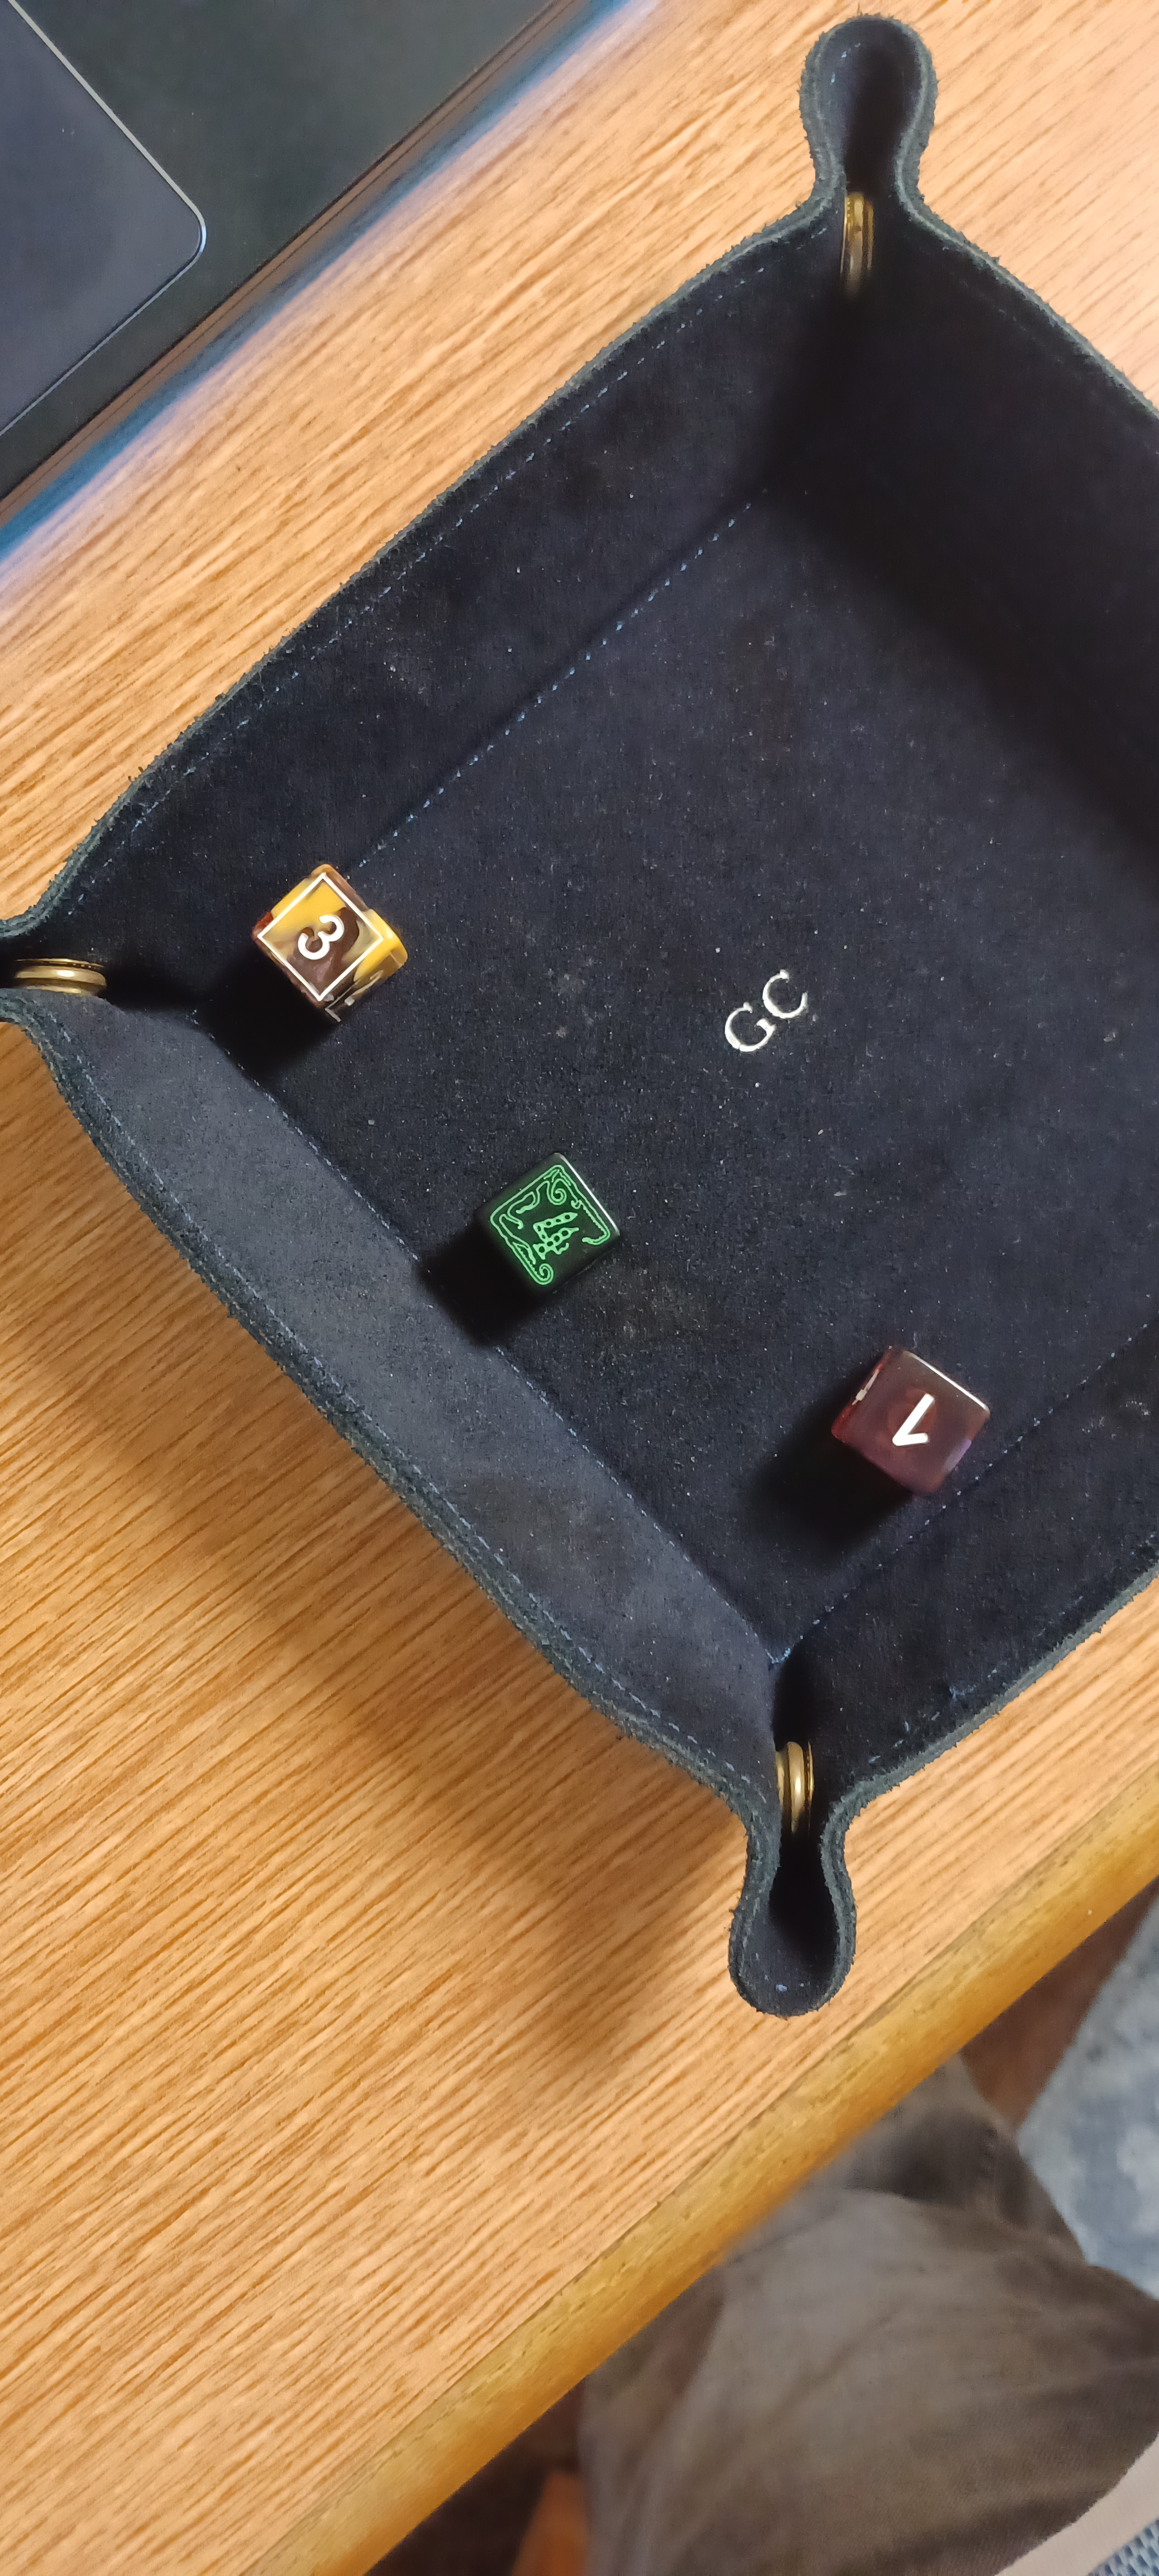four: (440, 1097, 658, 1329)
one: (801, 1316, 1026, 1539)
three: (222, 839, 438, 1043)
